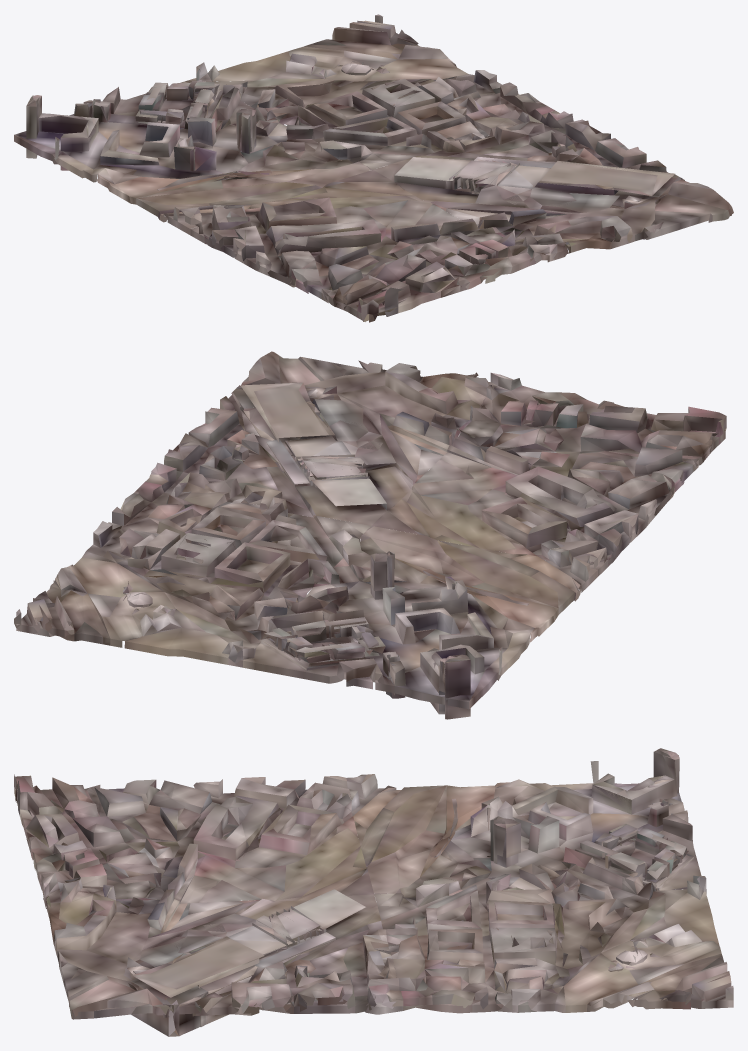
3 views of the same model, one above another, from view 1: azimuth 30°, elevation 25°; view 2: azimuth 150°, elevation 25°; view 3: azimuth 270°, elevation 25° (orthographic). The views are drawn at different scales.
Visible parts, largest first — view 1: Mesh_0; view 2: Mesh_0; view 3: Mesh_0.
Boxes of the visible parts, <box> form: Mesh_0: <box>14,14,733,322</box>; Mesh_0: <box>14,351,726,719</box>; Mesh_0: <box>14,748,733,1036</box>.
Size of the model in its own units: 1070 by 154 by 1320.
Materials: 1 (1 with a texture image).
